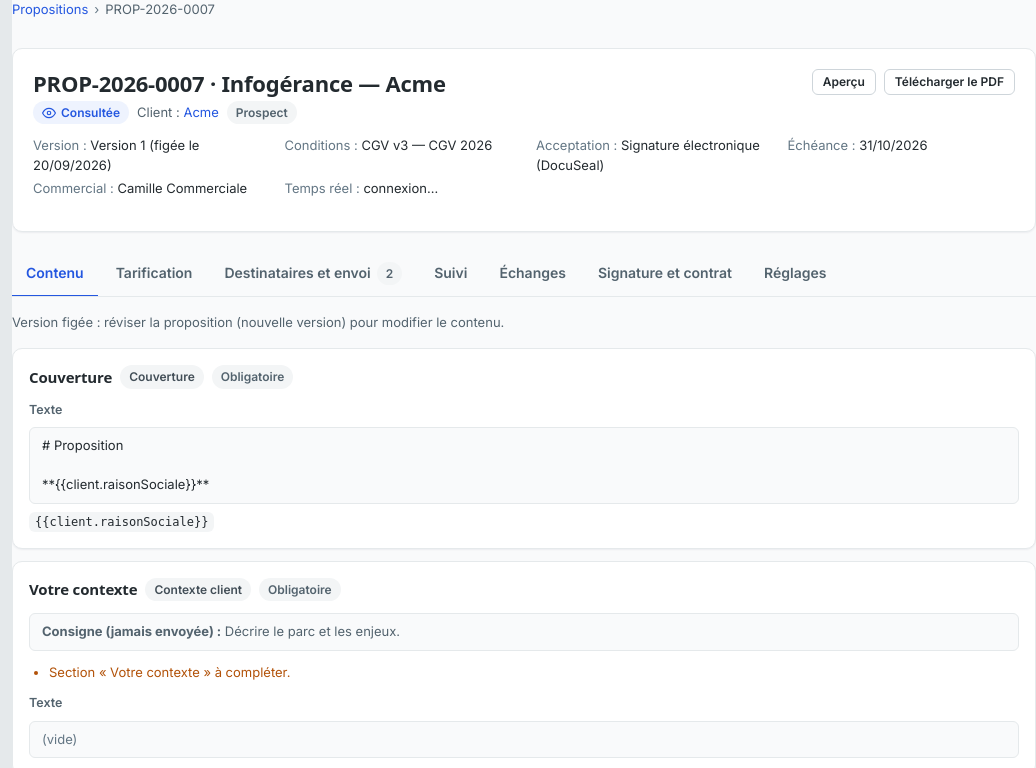
Test: suivi : bandeau RGPD, synthèse, lecture par section et chronologie par destinataire
The image size is (1036, 768).
Click the tab "Suivi" at (451, 274), box [420,252,481,297]
(page scrolled)
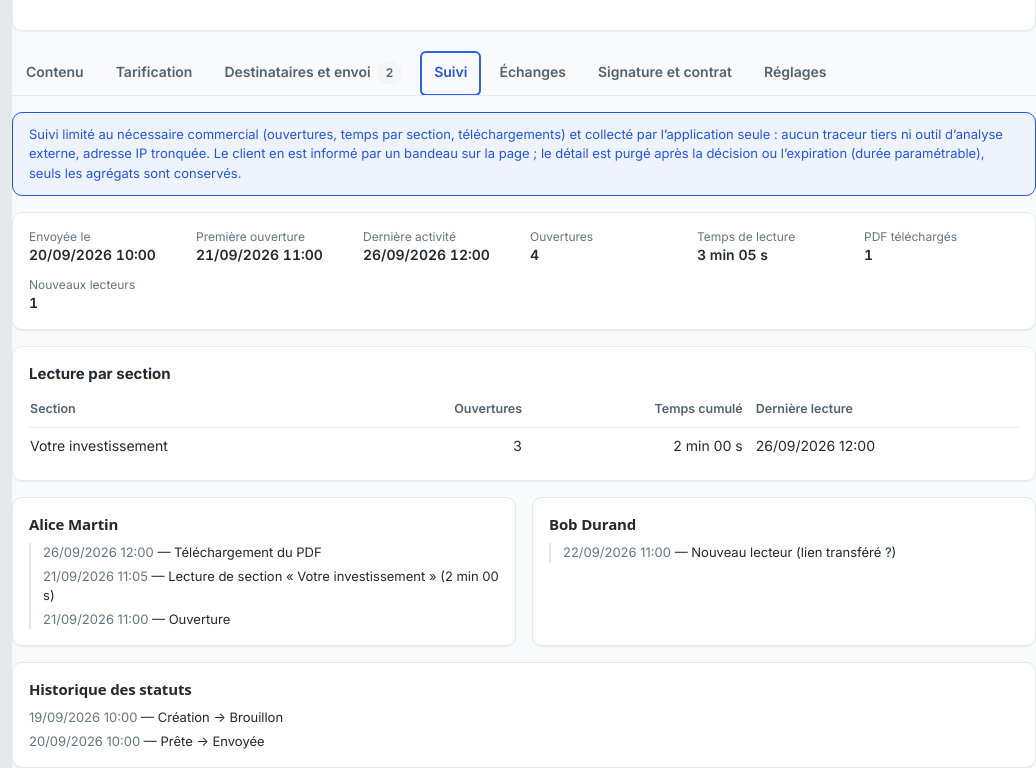
Now the text "aucun traceur tiers" is shown, box [29,126,1003,181]
Now the button "3 min 05 s" is shown, box [697,246,768,264]
Now the row "Votre investissement 3 2 min 00 s 26/09/2026 12:00" is shown, box [29,428,1019,464]
